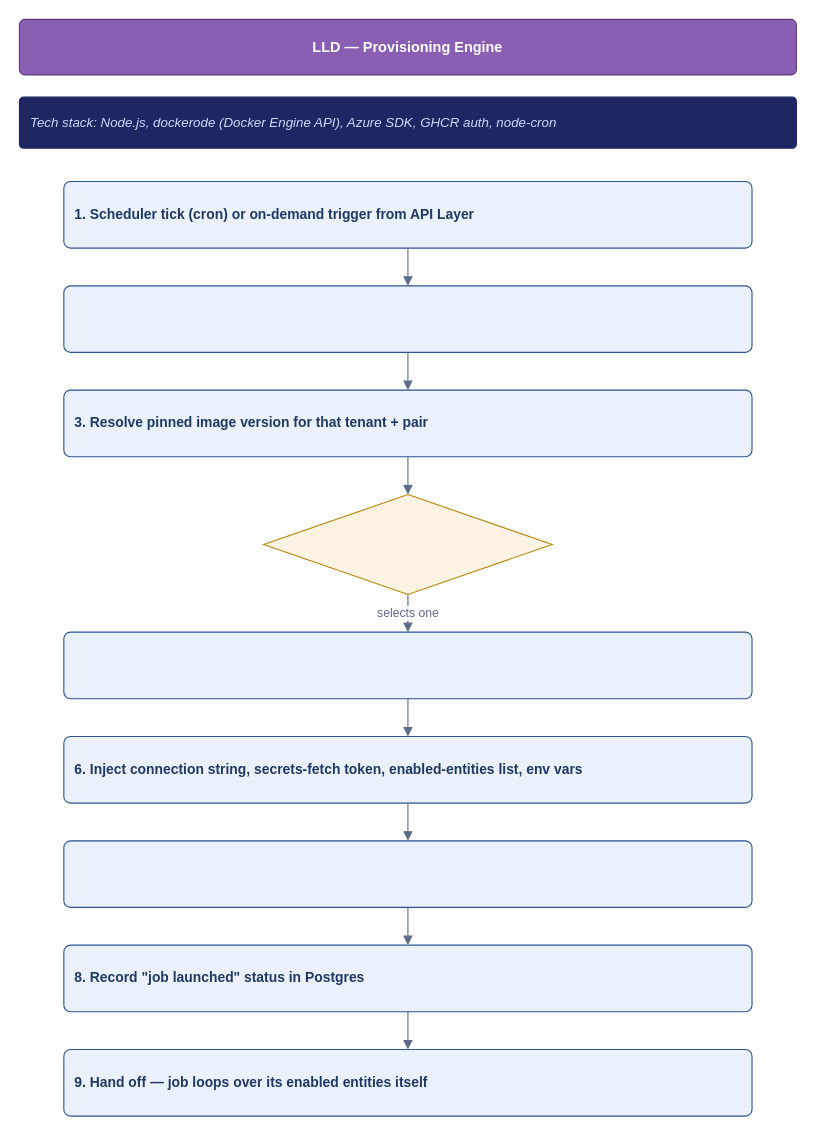
Image size: 816x1136. Some labels were removed from this diagram. Each missing label, with the box of its shape:
2. Read tenant sync_config from Postgres — pair + which entities are enabled: (63, 285, 752, 352)
5. Pull pinned image from GitHub Container Registry: (63, 631, 752, 699)
7. Launch ONE container for this run — batch job or long-lived, per sync mode: (63, 840, 752, 907)
Docker or Azure? (per tenant config): (263, 493, 552, 594)
